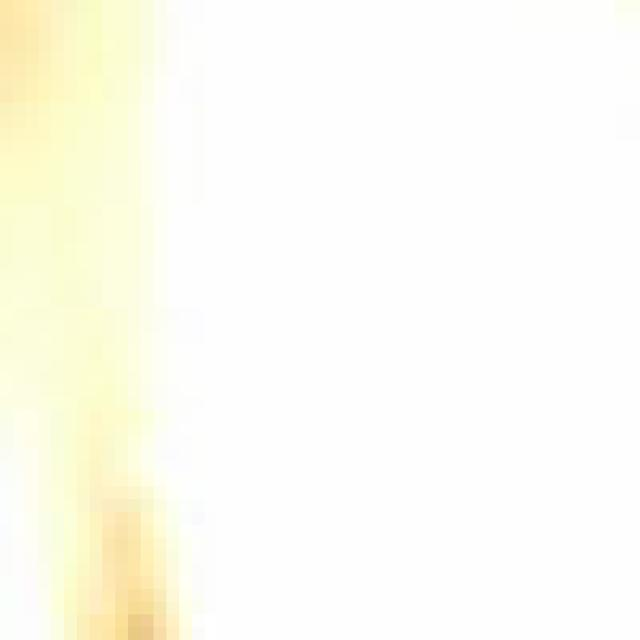no_fire: (21, 30, 640, 596)
